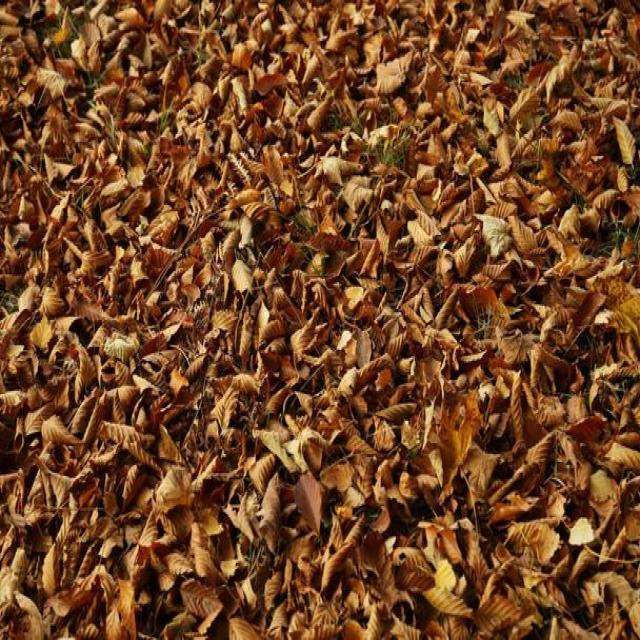organic waste: (434, 202, 640, 524), (364, 10, 635, 212), (0, 363, 178, 640), (1, 198, 238, 402), (178, 410, 376, 640), (239, 320, 438, 537), (166, 10, 362, 195), (2, 9, 165, 196), (240, 197, 431, 319)
